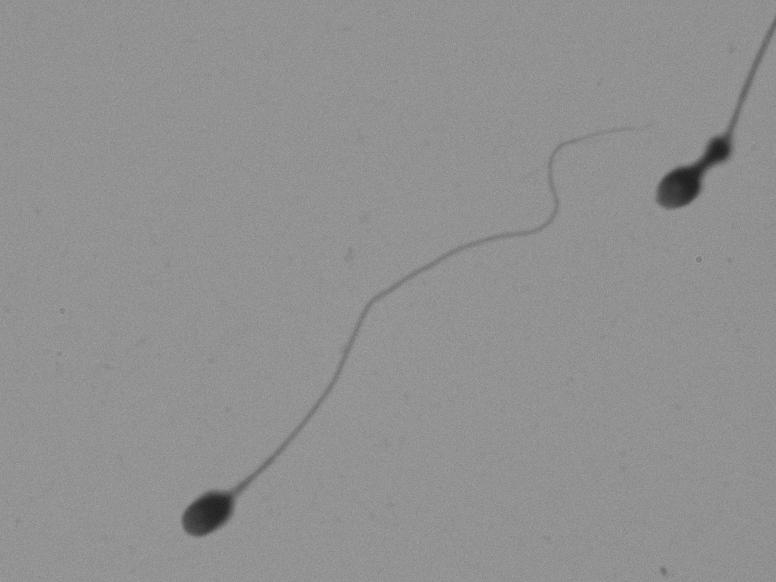Abnormal: (619, 45, 752, 310)
Normal: (153, 100, 643, 559)
